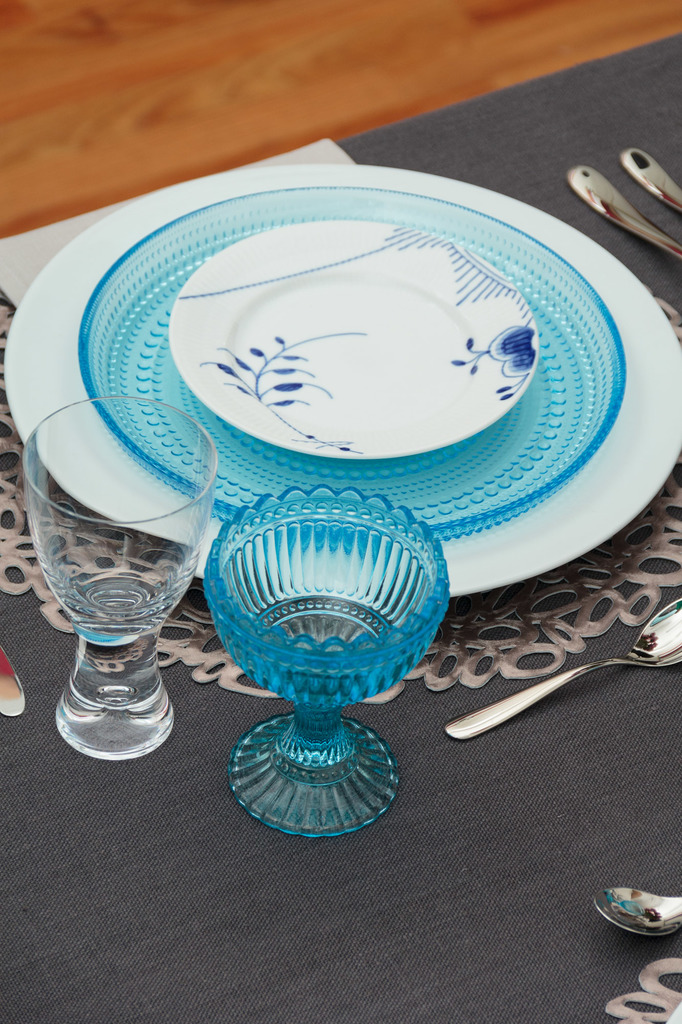plate: (166, 221, 536, 462)
